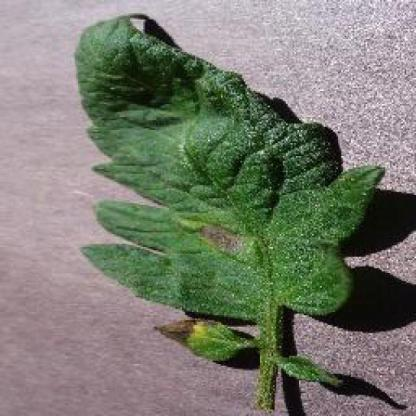Tomato_Blight: (77, 15, 386, 387)
